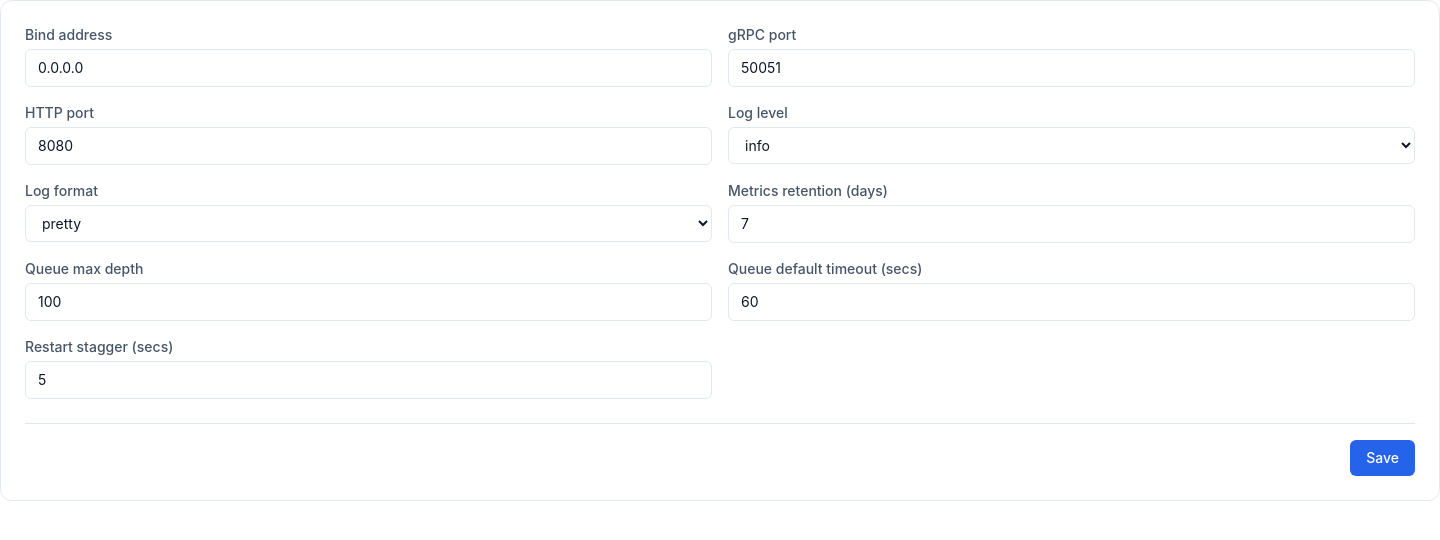
Test: GlobalSettingsEditor › shows an inline error when a port is out of range
Replace the text in the number field labelled "HTTP port" with "70000" at (368, 146), box [25, 127, 712, 165]
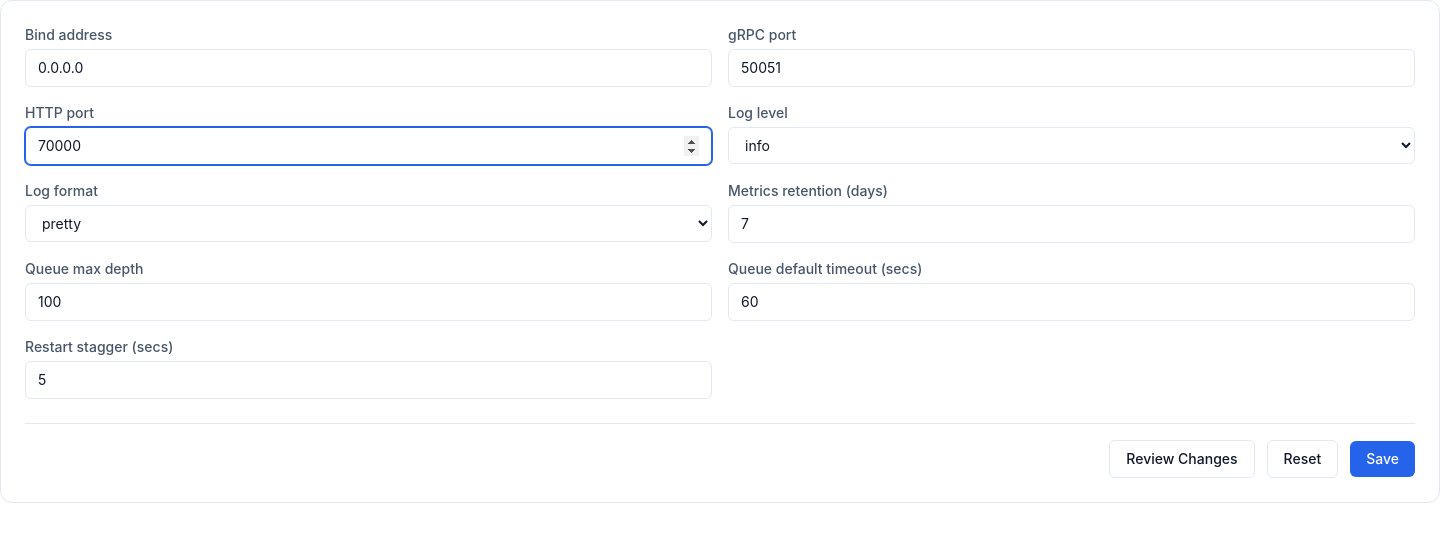
Press Tab
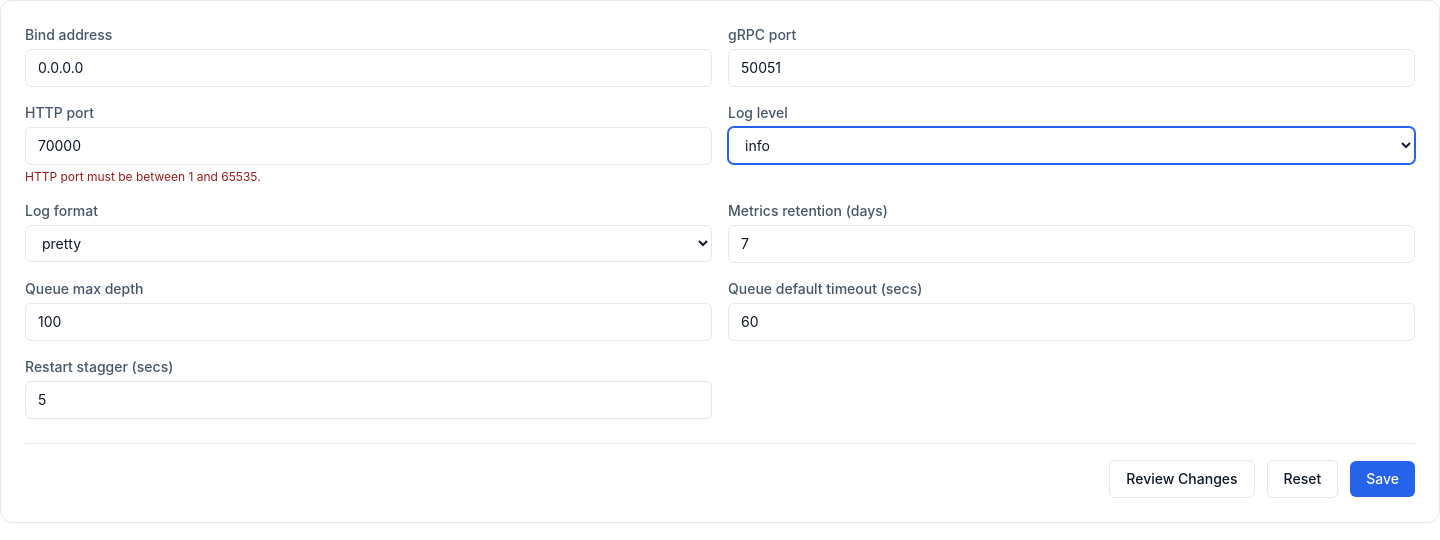
Expected: the button "Save" is enabled, [1350, 461, 1415, 497]
Result: the text "HTTP port must be between 1 and 65535." is shown at [25, 169, 261, 184]
